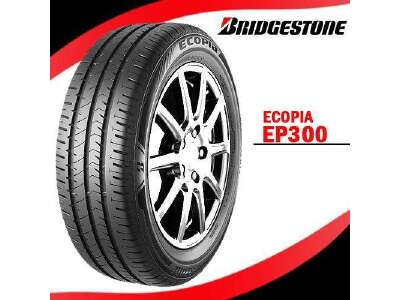tire: (61, 21, 242, 284)
